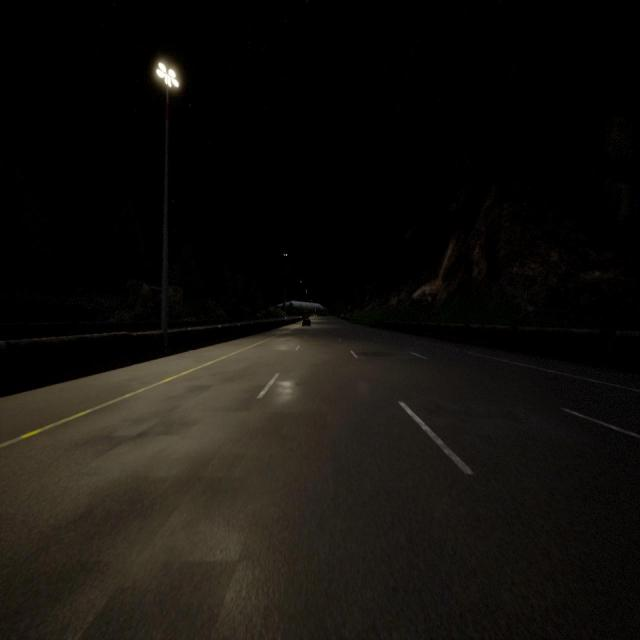Vehicle: (302, 319, 311, 327)
